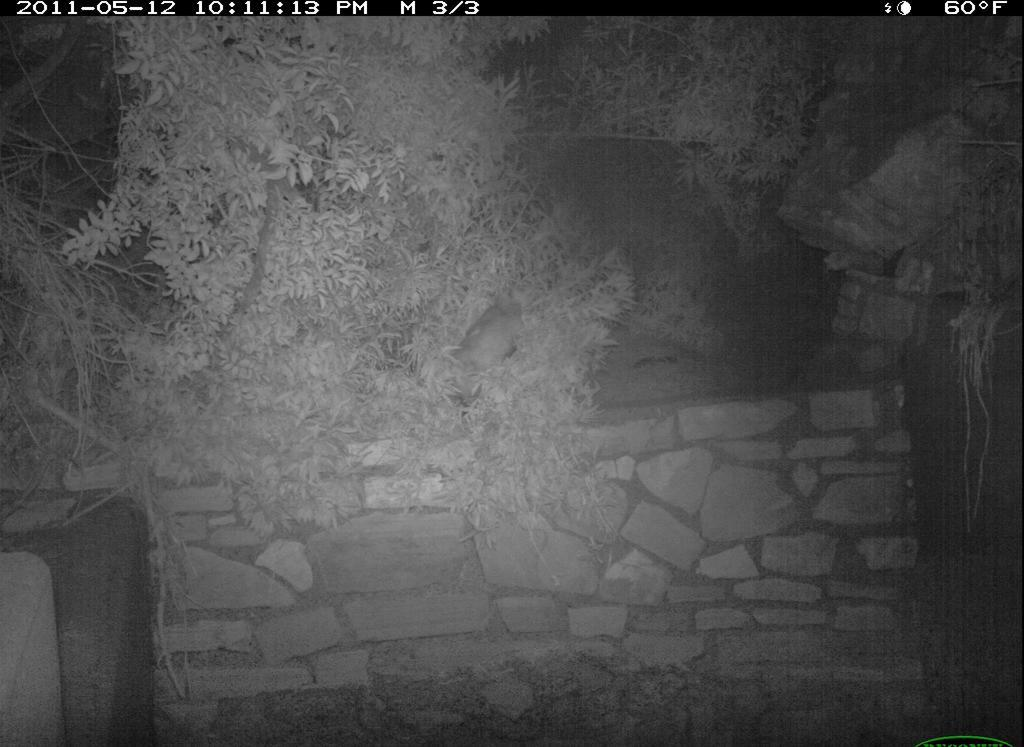opossum: (437, 282, 538, 416)
